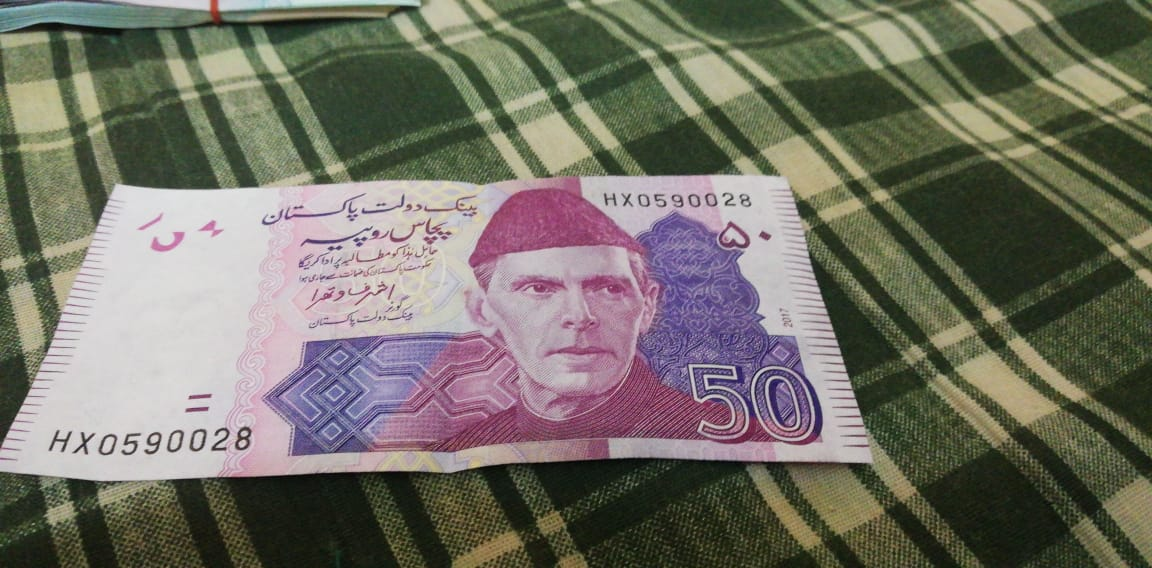50 rupee: (8, 165, 889, 495)
